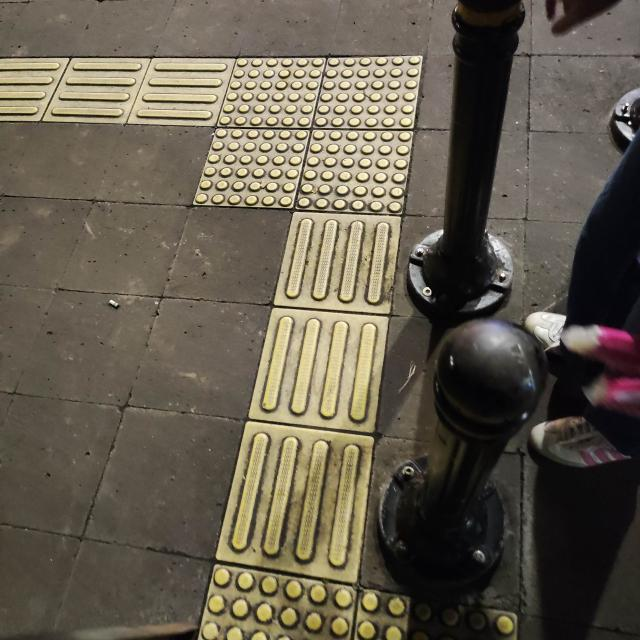kiri: (64, 12, 454, 264)
